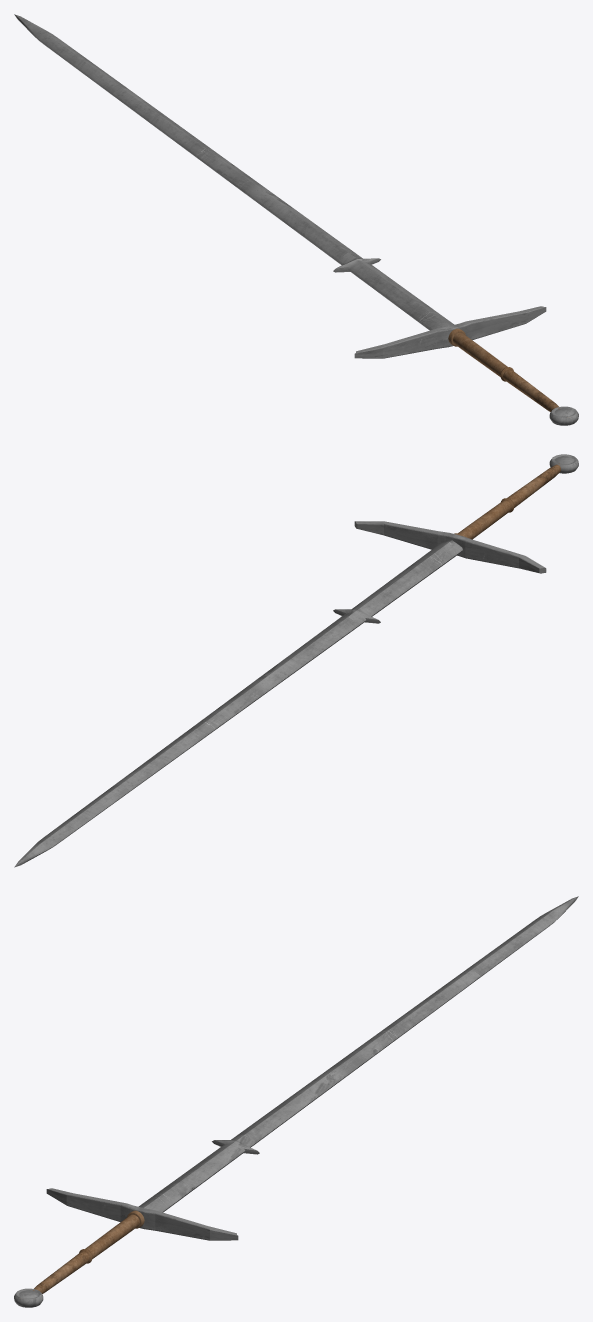
File: Zweihander.fbx
The picture shows the model from 3 angles, top to bottom: view 1: azimuth 30°, elevation 25°; view 2: azimuth 150°, elevation 25°; view 3: azimuth 330°, elevation 25°; orthographic projection.
Visible parts, largest first — view 1: LongSword.002; view 2: LongSword.002; view 3: LongSword.002.
Boxes of the visible parts, x1,y1,x2,y2 form: LongSword.002: (14, 14, 578, 425); LongSword.002: (14, 454, 578, 867); LongSword.002: (14, 896, 578, 1307).
Bounding box in the file's own units: 42.42 × 3.79 × 214.
